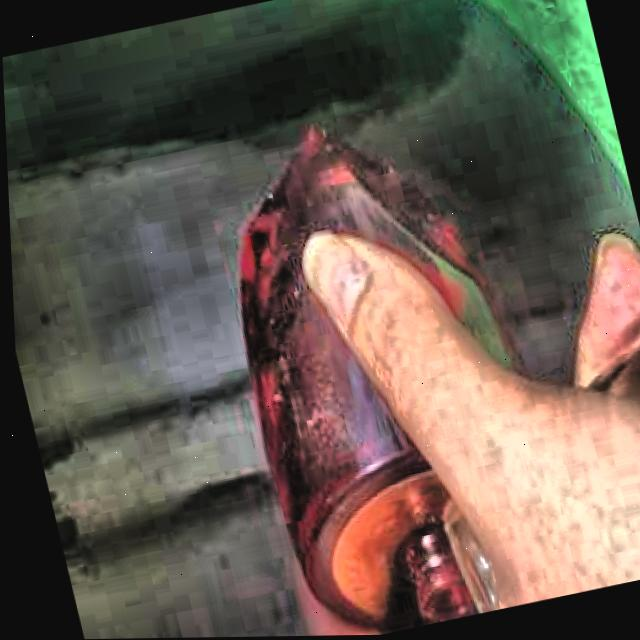glass: (240, 131, 467, 631)
